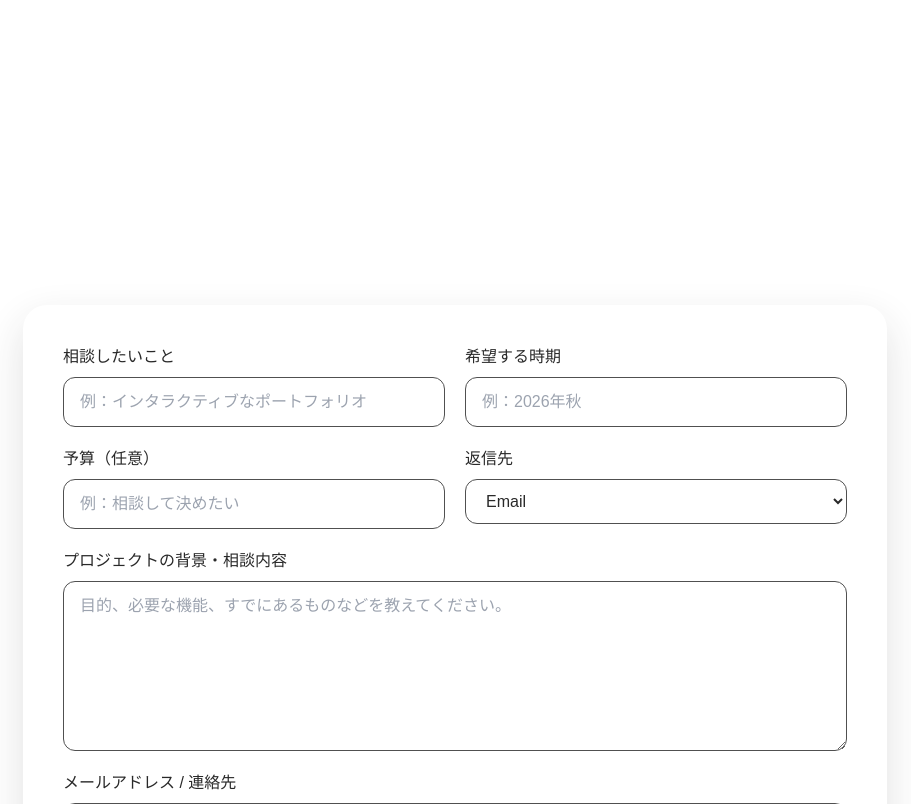
Test case: remaining application pages › shows localized contact errors
The image size is (911, 804).
Step 1. Type "サイト" into the field labelled "相談したいこと" → (254, 402), box 63,377 -> 445,427
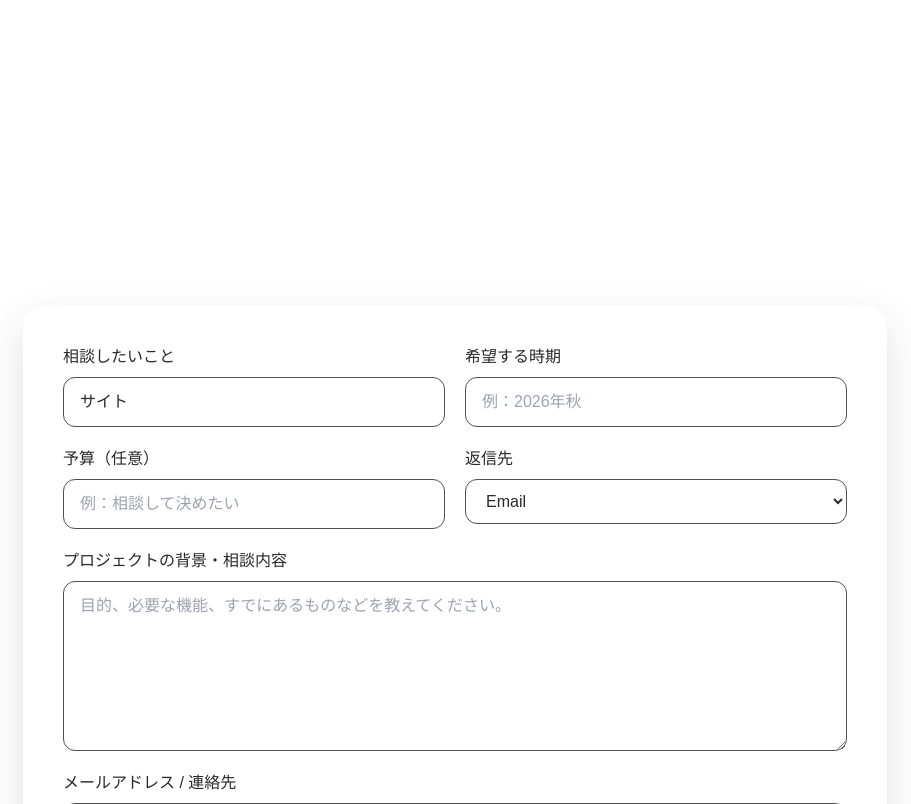
Step 2. Type "十分に長い相談内容です" into the text box → (455, 666), box 63,581 -> 847,751
(page scrolled)
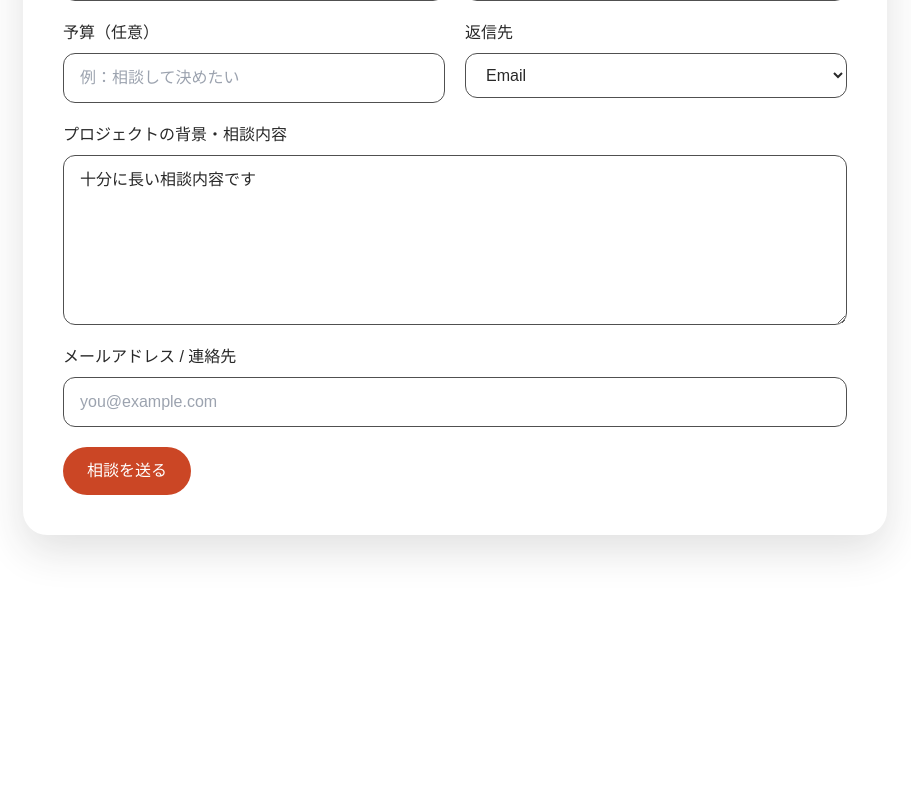
Step 3. Type "x@y.jp" into the field labelled "メールアドレス / 連絡先" → (455, 402), box 63,377 -> 847,427
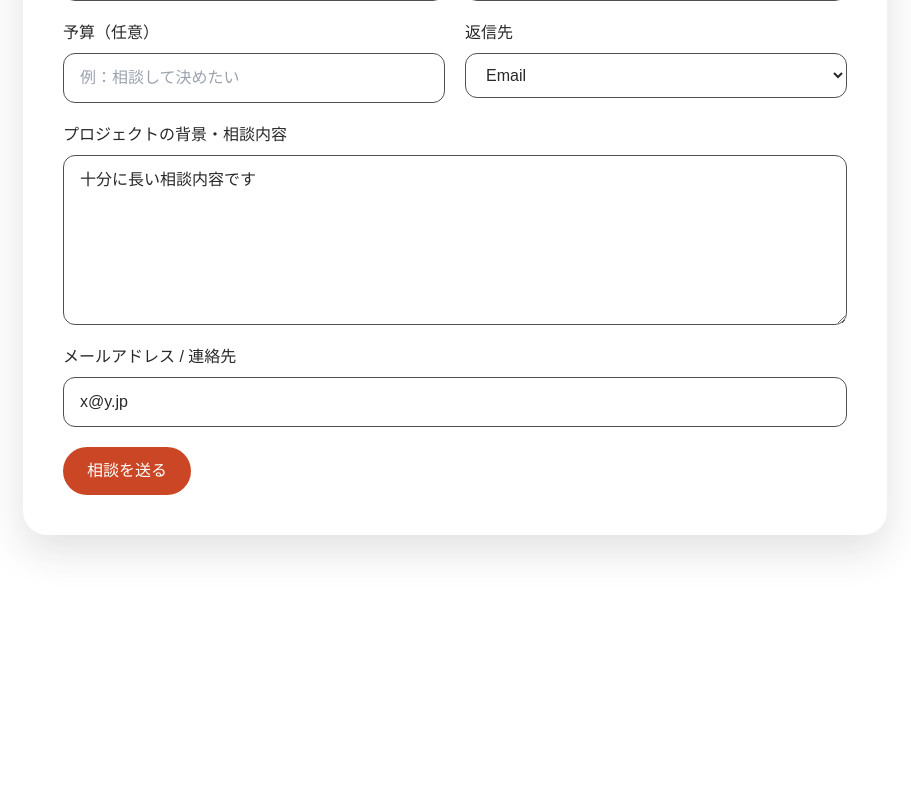
Step 4. Click the button "相談を送る" → (127, 471), box 63,447 -> 191,495
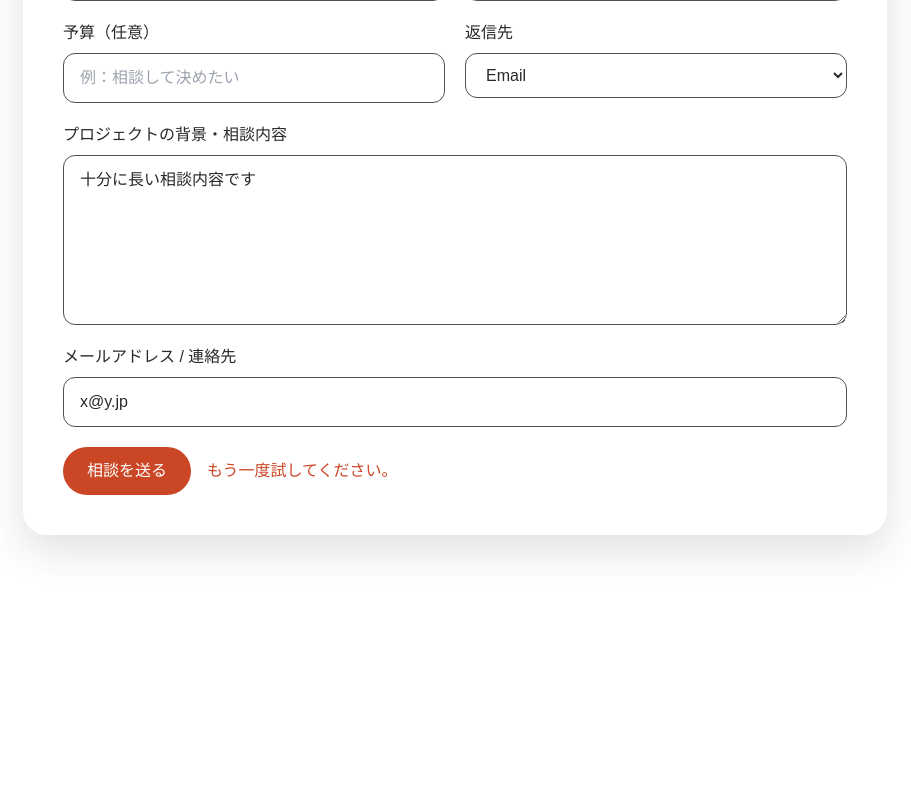
Now the text "もう一度試してください。" is shown, box 207,459 -> 398,483
